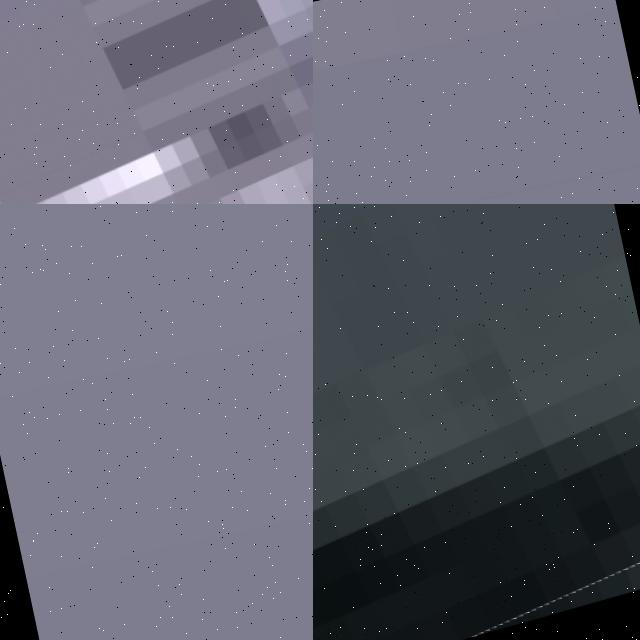drone: (313, 204, 640, 640), (0, 0, 313, 204)
